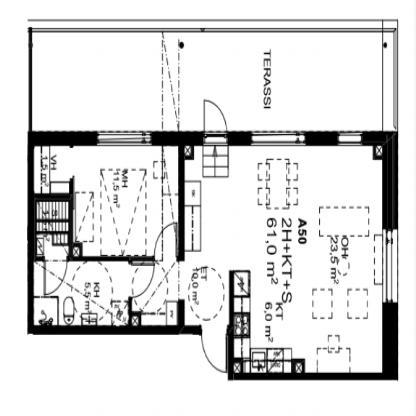bathroom: (32, 261, 131, 327)
door: (196, 322, 230, 376), (147, 219, 182, 266), (200, 97, 230, 140), (41, 259, 72, 297)
perimeter: (28, 132, 396, 378)
window: (379, 224, 402, 310), (245, 126, 308, 150), (94, 128, 155, 150), (334, 126, 366, 151)
